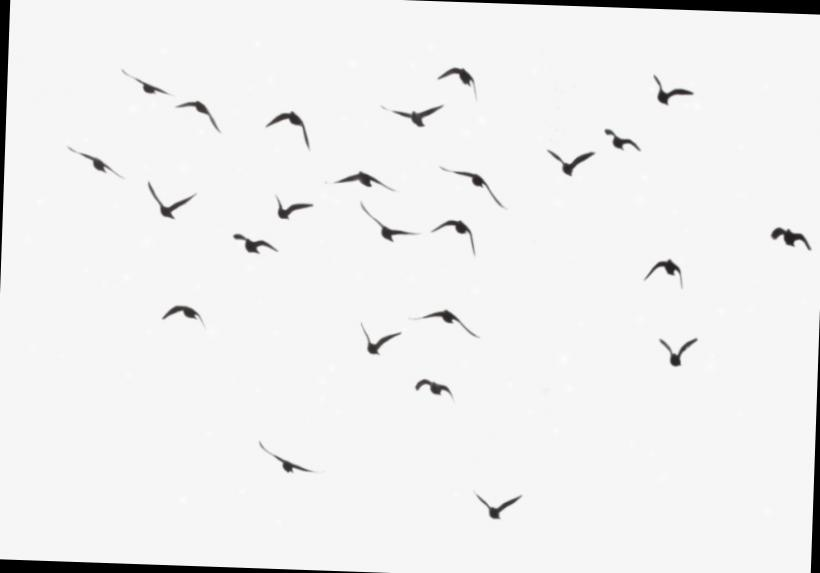bird: (57, 130, 132, 186), (247, 426, 317, 485), (460, 475, 528, 528), (629, 244, 695, 293), (144, 286, 214, 329), (341, 314, 404, 361), (641, 64, 695, 114), (645, 326, 698, 373), (401, 368, 458, 408)
